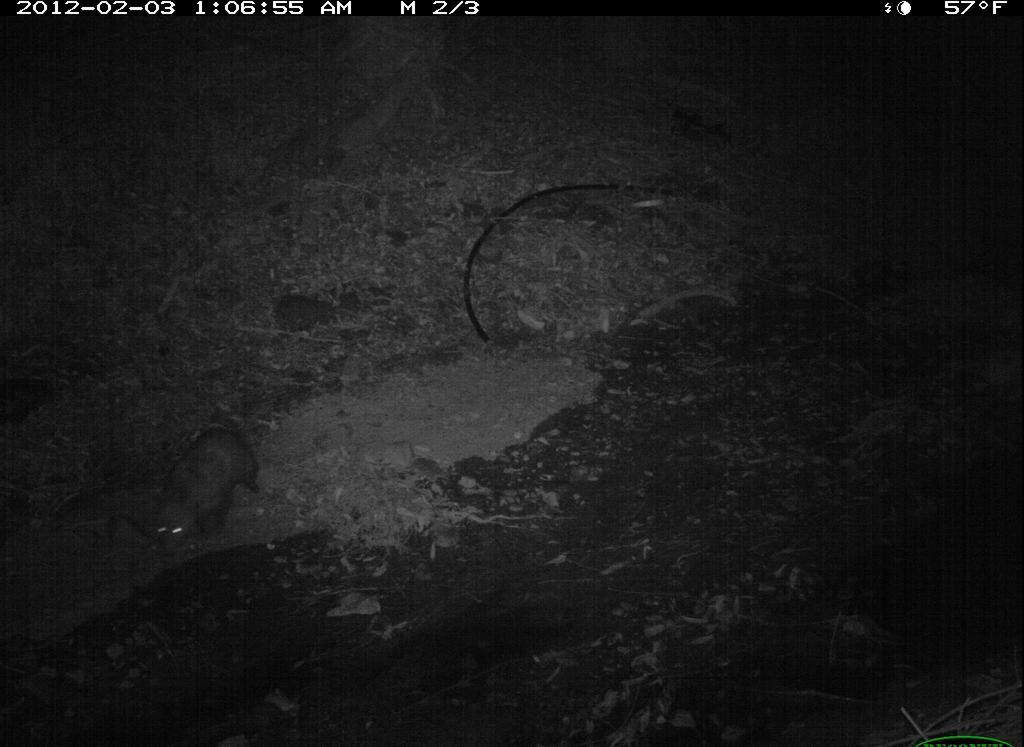opossum: (145, 408, 271, 575)
